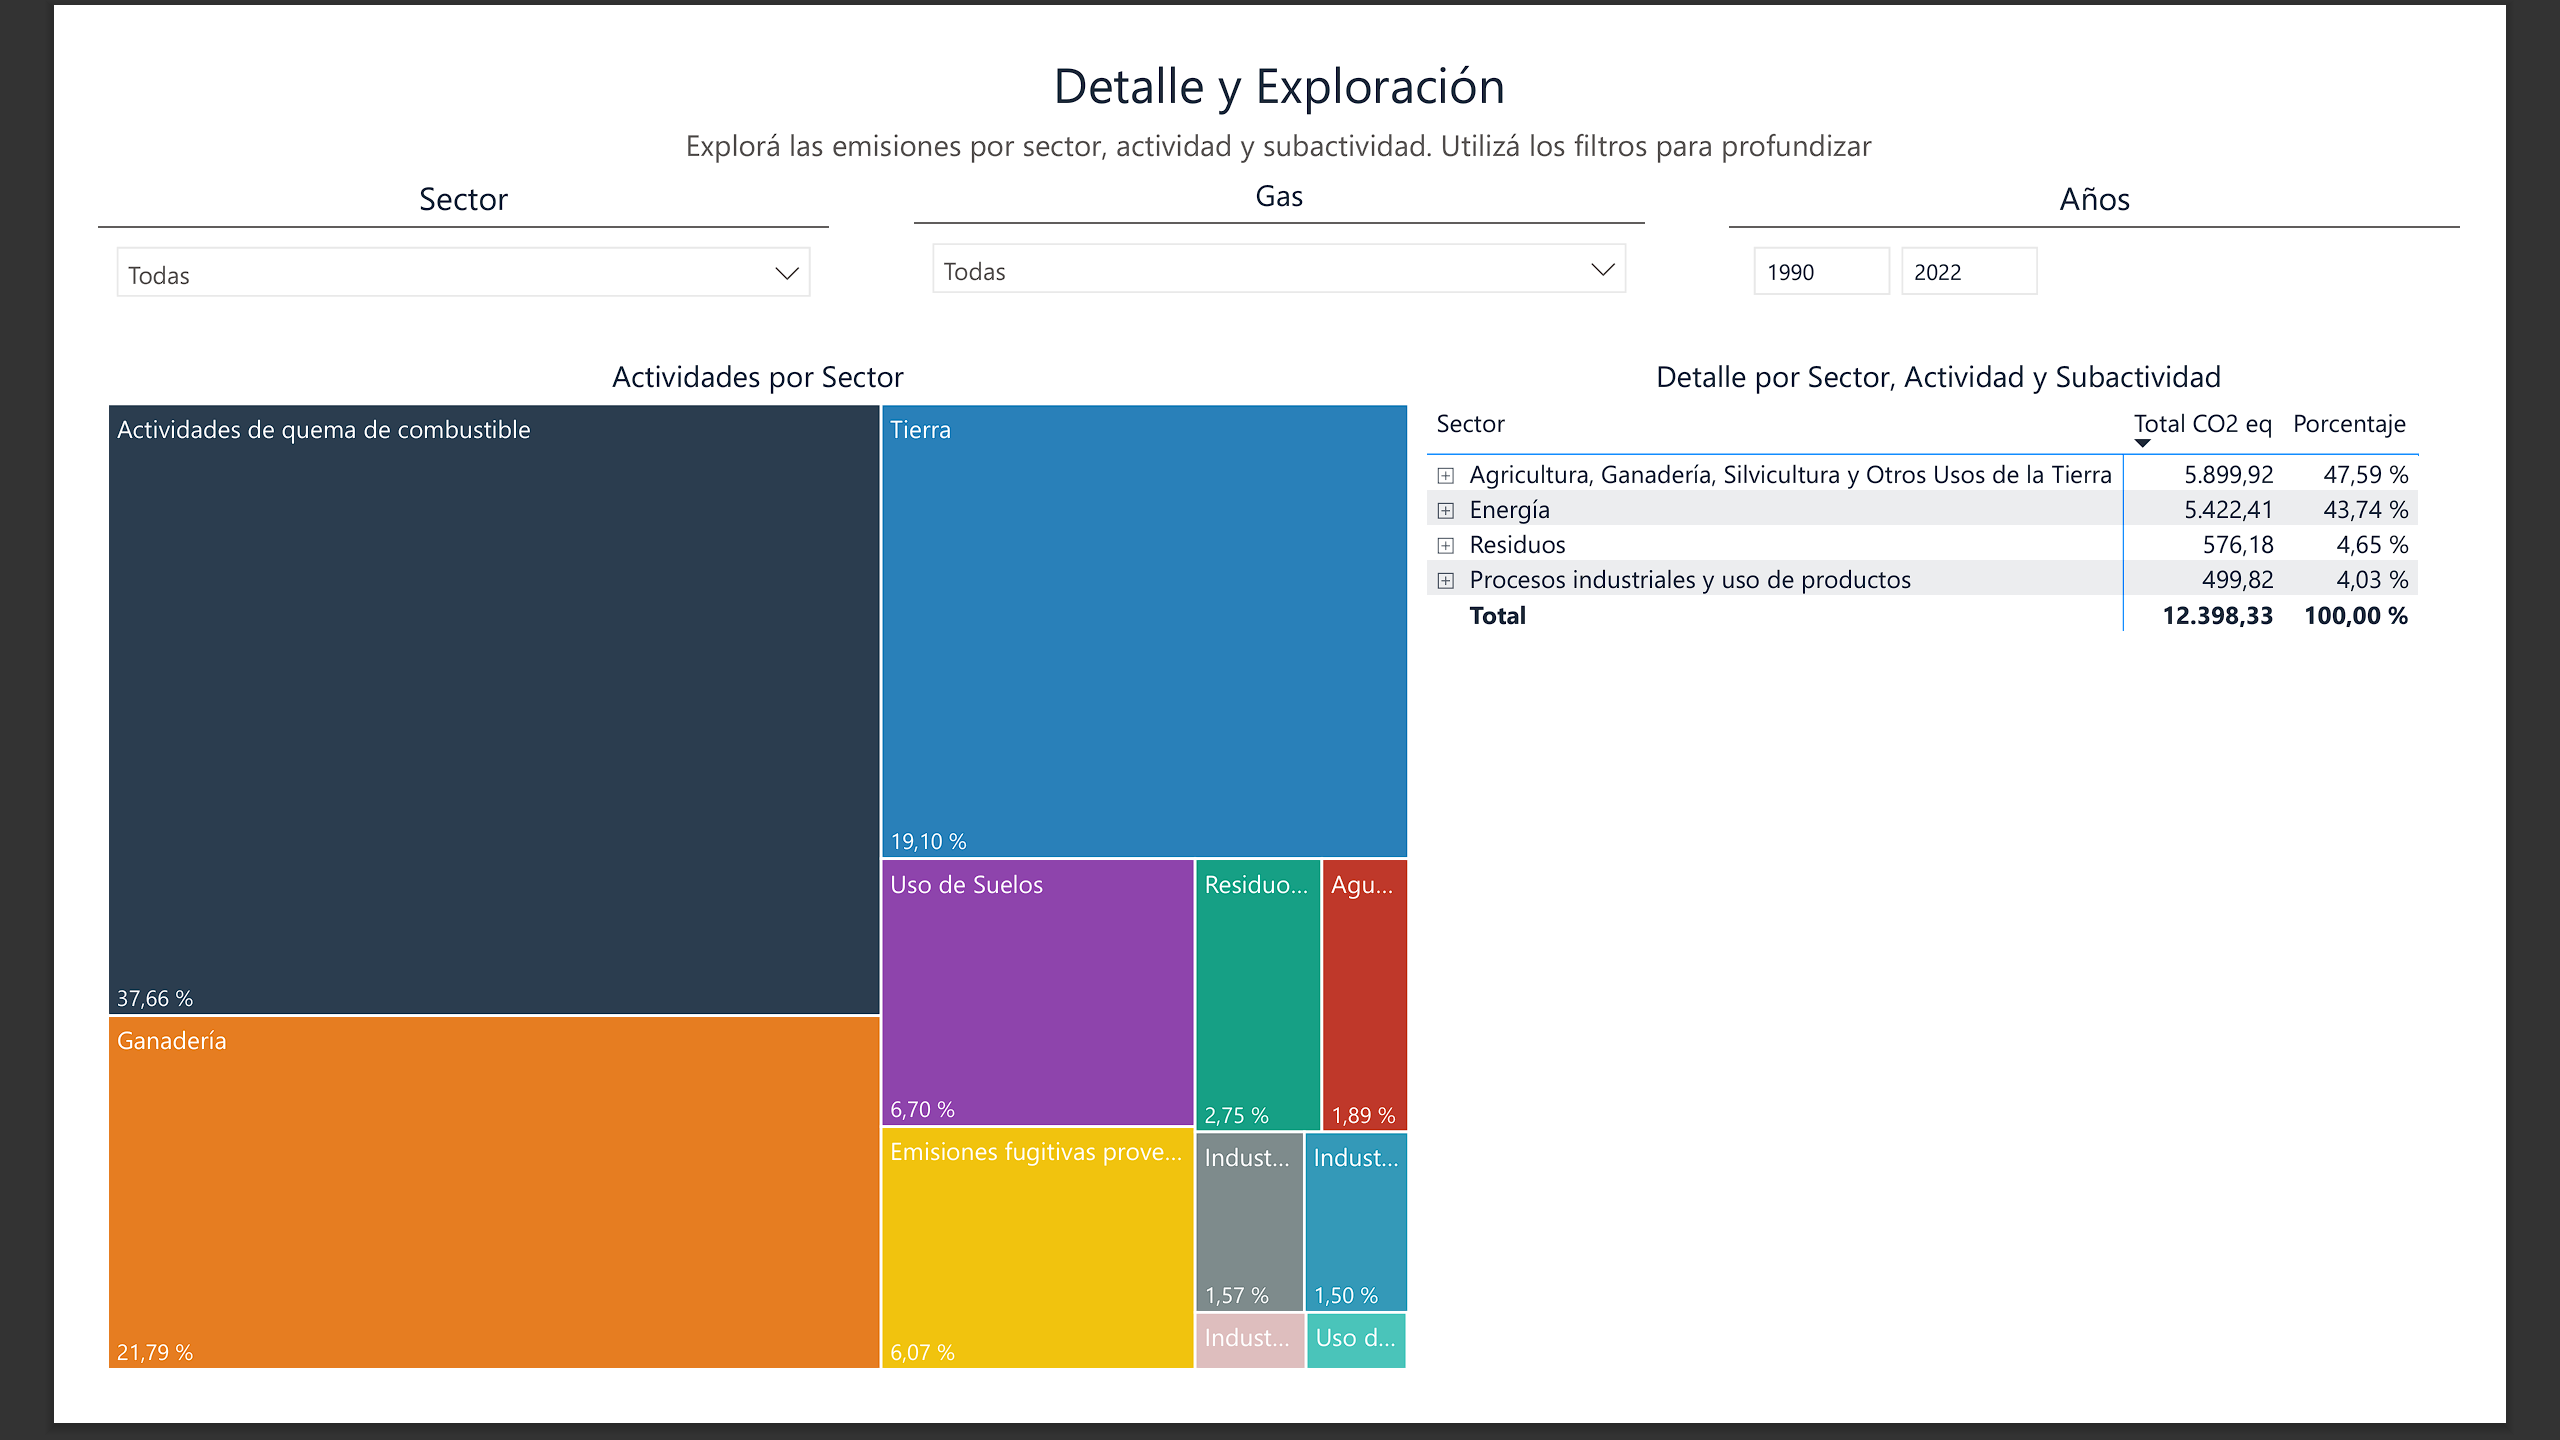

Layout of this report page (visuals, bound fields, positions):
{"tool":"powerbi","page":{"name":"Detalle y Exploración","canvas":[1280,720],"ordinal":2},"visuals":[{"type":"slicer","title":"Sector","fields":{"Values":["2- Sectores.sector"]},"box":[0,68.1,395.9,98.2],"z":0},{"type":"slicer","title":"Gas","fields":{"Values":["1- Gases.nombre_gas"]},"box":[441.7,68.1,395.9,98.2],"z":1000},{"type":"slicer","title":"Años","fields":{"Values":["5- Balance_anual.anio"]},"box":[884.1,68.1,395.9,98.2],"z":2000},{"type":"treemap","title":"Actividades por Sector","fields":{"Group":["3- Emisiones.actividad"],"Values":["3- Emisiones.% del Total"]},"box":[0,166.2,715.3,553.6],"z":3000},{"type":"pivotTable","title":"Detalle por Sector, Actividad y Subactividad","fields":{"Rows":["2- Sectores.sector","3- Emisiones.actividad","3- Emisiones.subactividad"],"Values":["Sum(3- Emisiones.valor_tco2e)","3- Emisiones.% del Total"]},"box":[715.3,166.2,564.7,553.6],"z":4000},{"type":"textbox","title":"Detalle y Exploración","box":[0,0,1280,68.1],"z":5000}]}

Visuals, with their boxes in screenshot pixels (x1, y1, x2, y2), scaled from the page's 1280x720 canvas onto the 2560x1440 screenshot:
"Sector" slicer: 0:136:792:333
"Gas" slicer: 883:136:1675:333
"Años" slicer: 1768:136:2559:333
"Actividades por Sector" treemap: 0:332:1431:1439
"Detalle por Sector, Actividad y Subactividad" pivotTable: 1431:332:2559:1439
"Detalle y Exploración" textbox: 0:0:2559:136
